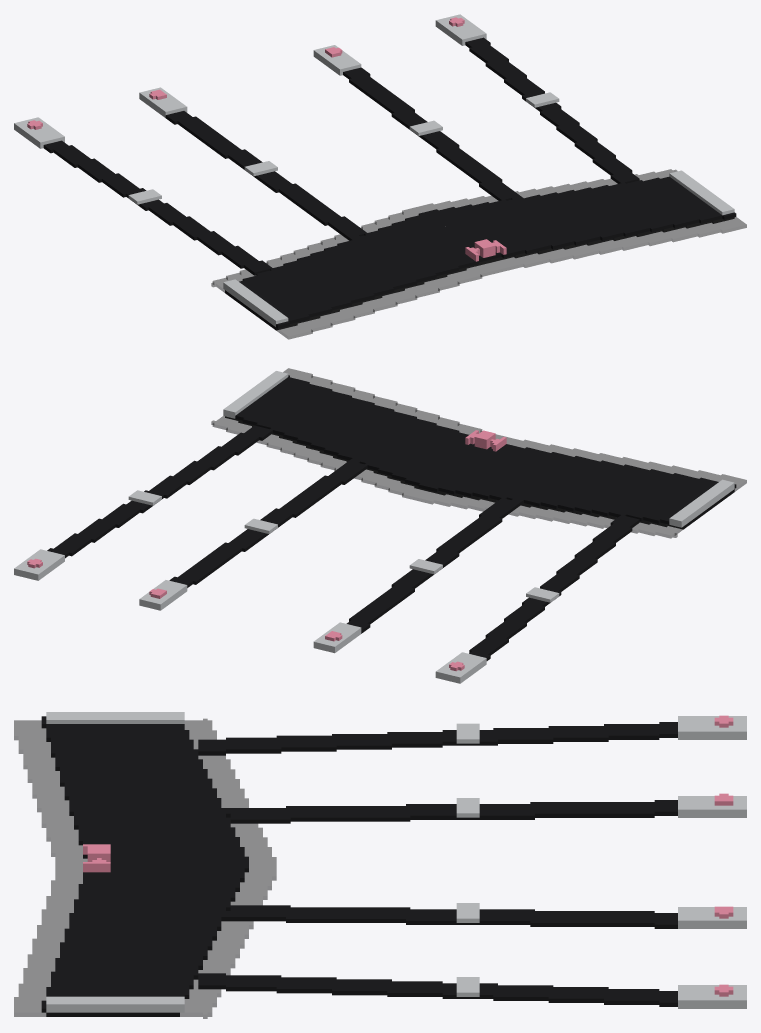
The model's file is garter_belt.glb.
3 views of the same model, one above another, from view 1: azimuth 30°, elevation 25°; view 2: azimuth 150°, elevation 25°; view 3: azimuth 270°, elevation 25° (orthographic). The views are drawn at different scales.
Parts seen in each view (by area): view 1: garter_belt:compound; view 2: garter_belt:compound; view 3: garter_belt:compound.
Part boxes in pixels (x1,y1,x2,y2): garter_belt:compound: (14, 14, 746, 339); garter_belt:compound: (14, 368, 746, 683); garter_belt:compound: (14, 712, 746, 1018).
Bounding box in the file's own units: 0.304 × 0.01 × 0.318.
